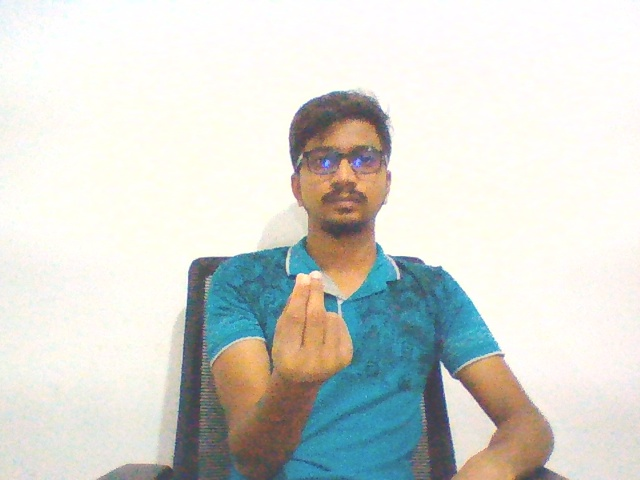dog: (254, 257, 379, 412)
